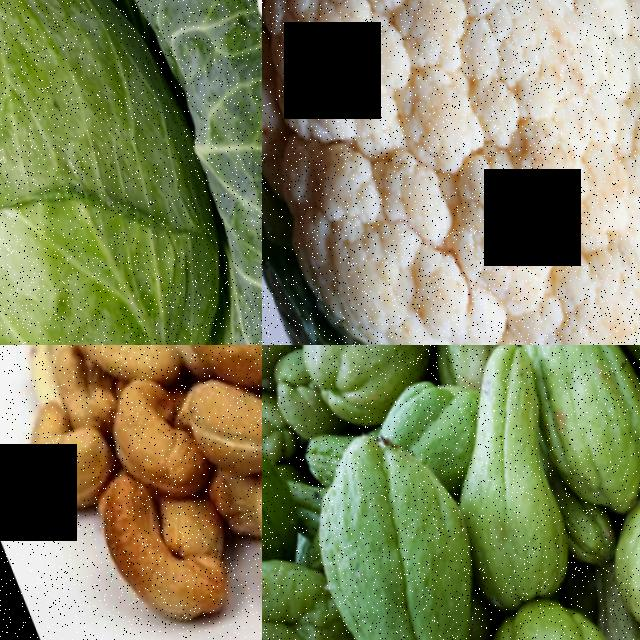cabbage: (0, 0, 262, 345)
cashew: (84, 476, 209, 640), (159, 352, 262, 491), (2, 418, 102, 516), (35, 345, 114, 446), (219, 473, 262, 609), (60, 345, 168, 390), (157, 345, 262, 391)
cauliflower: (262, 0, 640, 345)
chayote: (262, 422, 522, 640), (410, 363, 589, 616), (472, 345, 640, 524), (595, 481, 640, 640)
